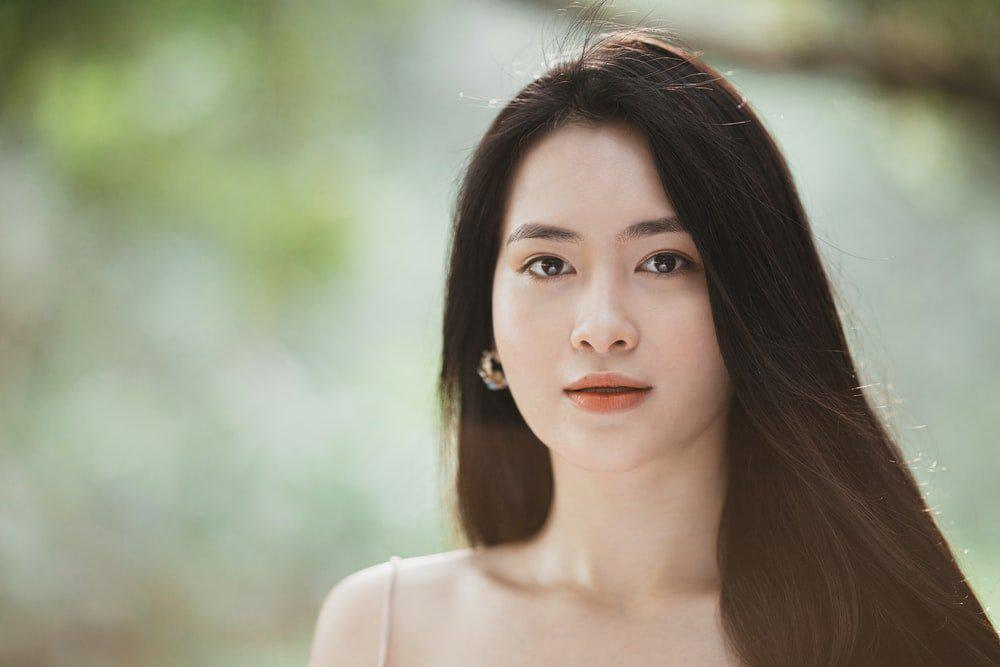Sober: (506, 146, 714, 447)
